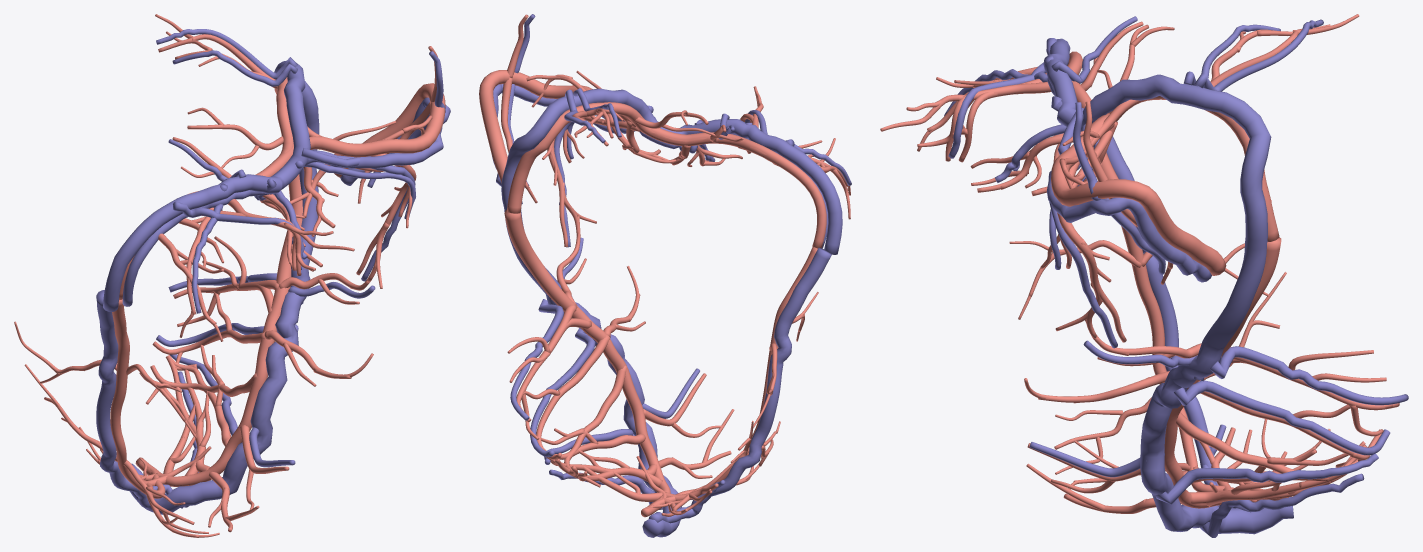
File: vessels_19.glb
3 renders of one model, left to right at view 1: azimuth 30°, elevation 25°; view 2: azimuth 150°, elevation 25°; view 3: azimuth 270°, elevation 25°, orthographic. The views are drawn at different scales.
Parts seen in each view (by area): view 1: Renderer Node; view 2: Renderer Node; view 3: Renderer Node.
Boxes of the visible parts, x1,y1,x2,y2 form: Renderer Node: (14, 14, 450, 537); Renderer Node: (479, 14, 851, 537); Renderer Node: (880, 14, 1408, 537).
Size of the model in its own units: 94.39 by 112 by 95.82.
